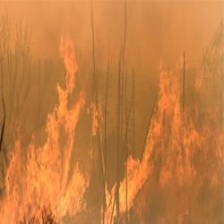fire: (10, 133, 90, 216), (153, 78, 206, 183)
